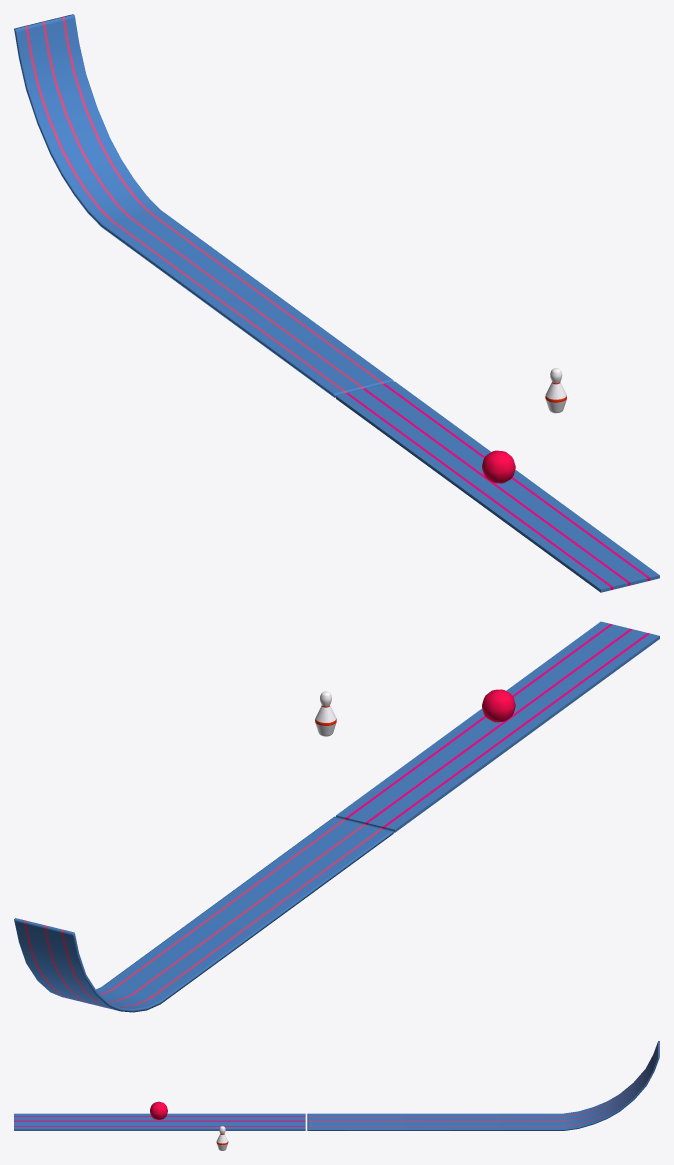
The model's file is speedFallBall.fbx.
3 views of the same model, one above another, from view 1: azimuth 30°, elevation 25°; view 2: azimuth 150°, elevation 25°; view 3: azimuth 270°, elevation 25° (orthographic). The views are drawn at different scales.
Visible parts, largest first — view 1: Куб.001, Куб, Cube; view 2: Куб.001, Куб, Cube, Куб.002; view 3: Куб.001, Куб, Cube, Куб.002.
Boxes of the visible parts, x1,y1,x2,y2 form: Куб.001: (14,14,393,397); Куб: (336,381,659,592); Cube: (482,450,515,483); Куб.001: (14,816,393,1012); Куб: (336,621,659,832); Cube: (482,689,515,722); Куб.002: (315,691,336,736); Куб.001: (307,1041,659,1130); Куб: (14,1113,305,1130); Cube: (150,1101,167,1119); Куб.002: (216,1126,228,1150).
Bounding box in the file's own units: 1095 × 916 × 7227.
